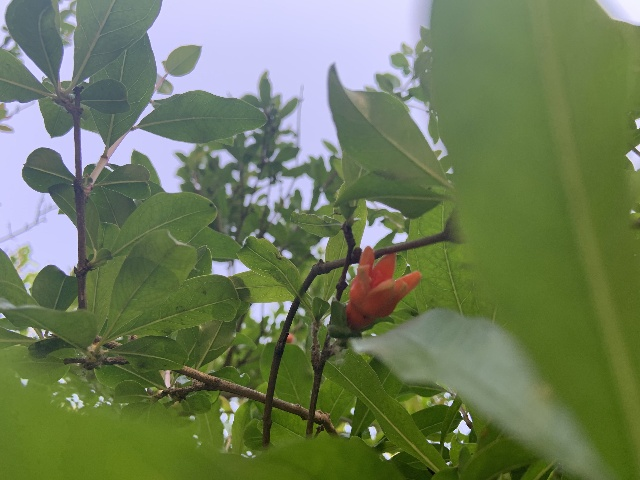flower: (345, 244, 422, 332)
